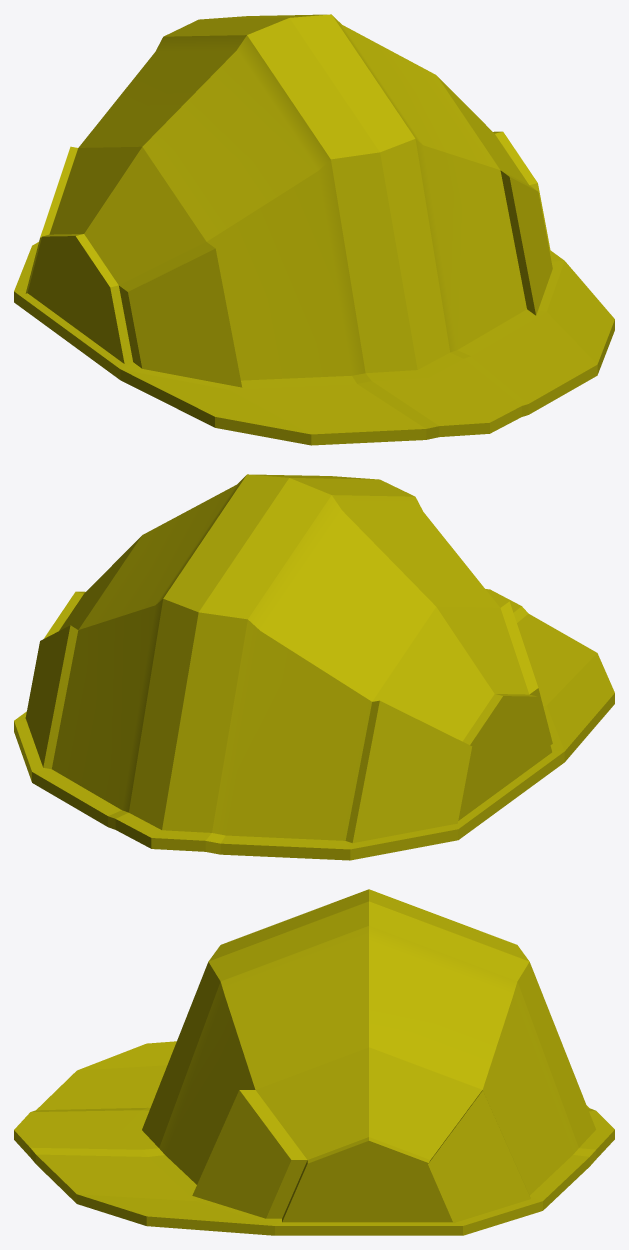
Rendered from Hardhat.fbx.
3 renders of one model, top to bottom at view 1: azimuth 30°, elevation 25°; view 2: azimuth 150°, elevation 25°; view 3: azimuth 270°, elevation 25°, orthographic. The views are drawn at different scales.
Visible parts, largest first — view 1: pSphere1; view 2: pSphere1; view 3: pSphere1.
Boxes of the visible parts, box(x1,y1,x2,y2) form: pSphere1: box(14, 14, 614, 445); pSphere1: box(14, 474, 614, 860); pSphere1: box(14, 889, 614, 1235).
Bounding box in the file's own units: 40.37 × 23.61 × 53.39.
